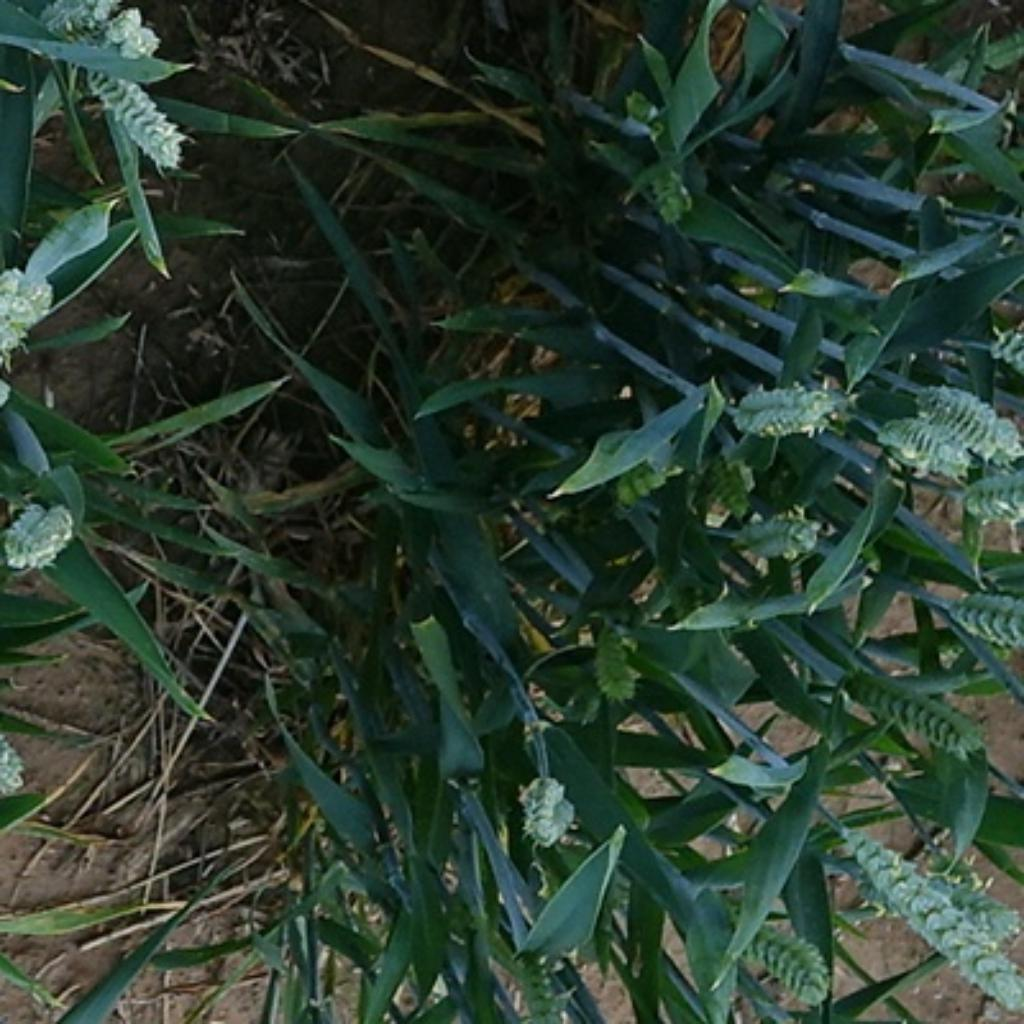0-0: (851, 833, 1024, 1015), (840, 850, 1019, 946), (85, 68, 198, 175), (852, 663, 980, 755), (729, 915, 833, 1015), (724, 371, 849, 442), (872, 409, 972, 491), (921, 376, 1024, 453), (493, 941, 587, 1024), (0, 258, 62, 380), (752, 518, 857, 587), (0, 491, 84, 576), (48, 0, 164, 61), (931, 582, 1024, 658), (682, 444, 759, 530), (578, 611, 645, 706), (512, 771, 581, 858), (952, 463, 1024, 541), (982, 313, 1024, 379)
